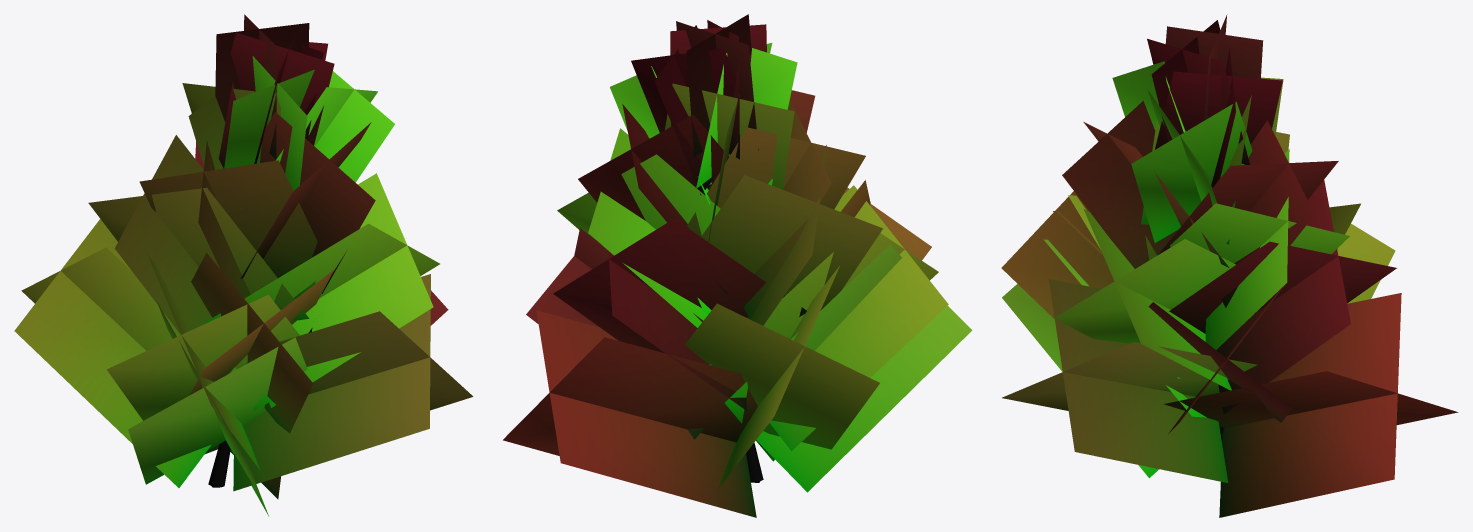
The model's file is Tree_2_7.fbx.
3 renders of one model, left to right at view 1: azimuth 30°, elevation 25°; view 2: azimuth 150°, elevation 25°; view 3: azimuth 270°, elevation 25°, orthographic. The views are drawn at different scales.
Visible parts, largest first — view 1: Tree_2_7; view 2: Tree_2_7; view 3: Tree_2_7.
Part boxes in pixels (x1,y1,x2,y2): Tree_2_7: (14, 14, 473, 516); Tree_2_7: (503, 14, 972, 517); Tree_2_7: (1001, 14, 1458, 517).
Size of the model in its own units: 4100 by 4988 by 4326.
